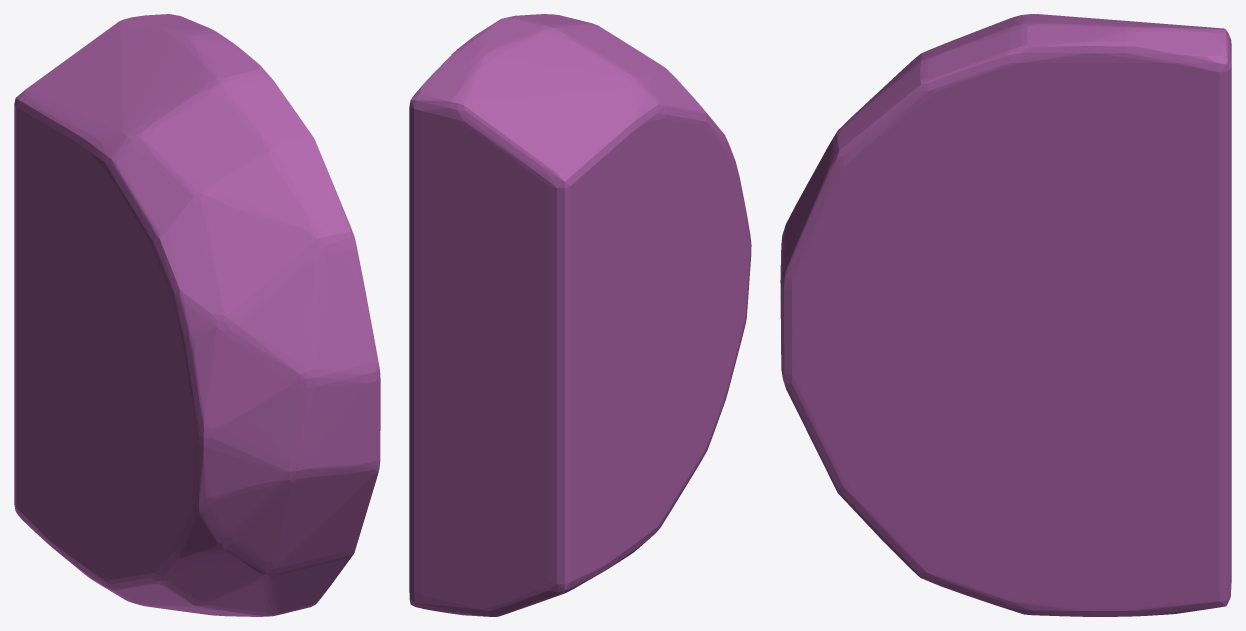
Rendered from right_th_proximal_part_7.obj.
3 views of the same model, side by side, from view 1: azimuth 30°, elevation 25°; view 2: azimuth 150°, elevation 25°; view 3: azimuth 270°, elevation 25° (orthographic). The views are drawn at different scales.
Size of the model in its own units: 6.81 by 21.92 by 15.56.
